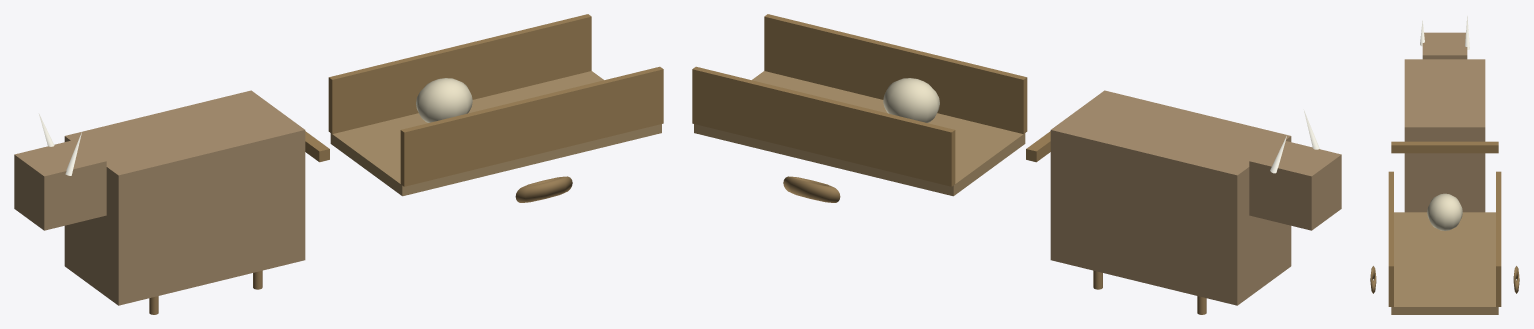
File: env-med-oxcart.glb
3 views of the same model, side by side, from view 1: azimuth 30°, elevation 25°; view 2: azimuth 150°, elevation 25°; view 3: azimuth 270°, elevation 25° (orthographic). The views are drawn at different scales.
Size of the model in its own units: 5.75 by 1.79 by 1.67.
